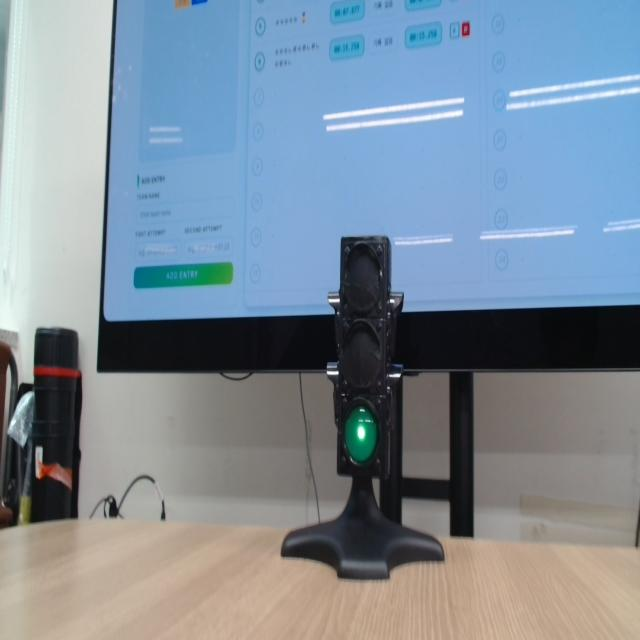green_light: (344, 406, 378, 464)
